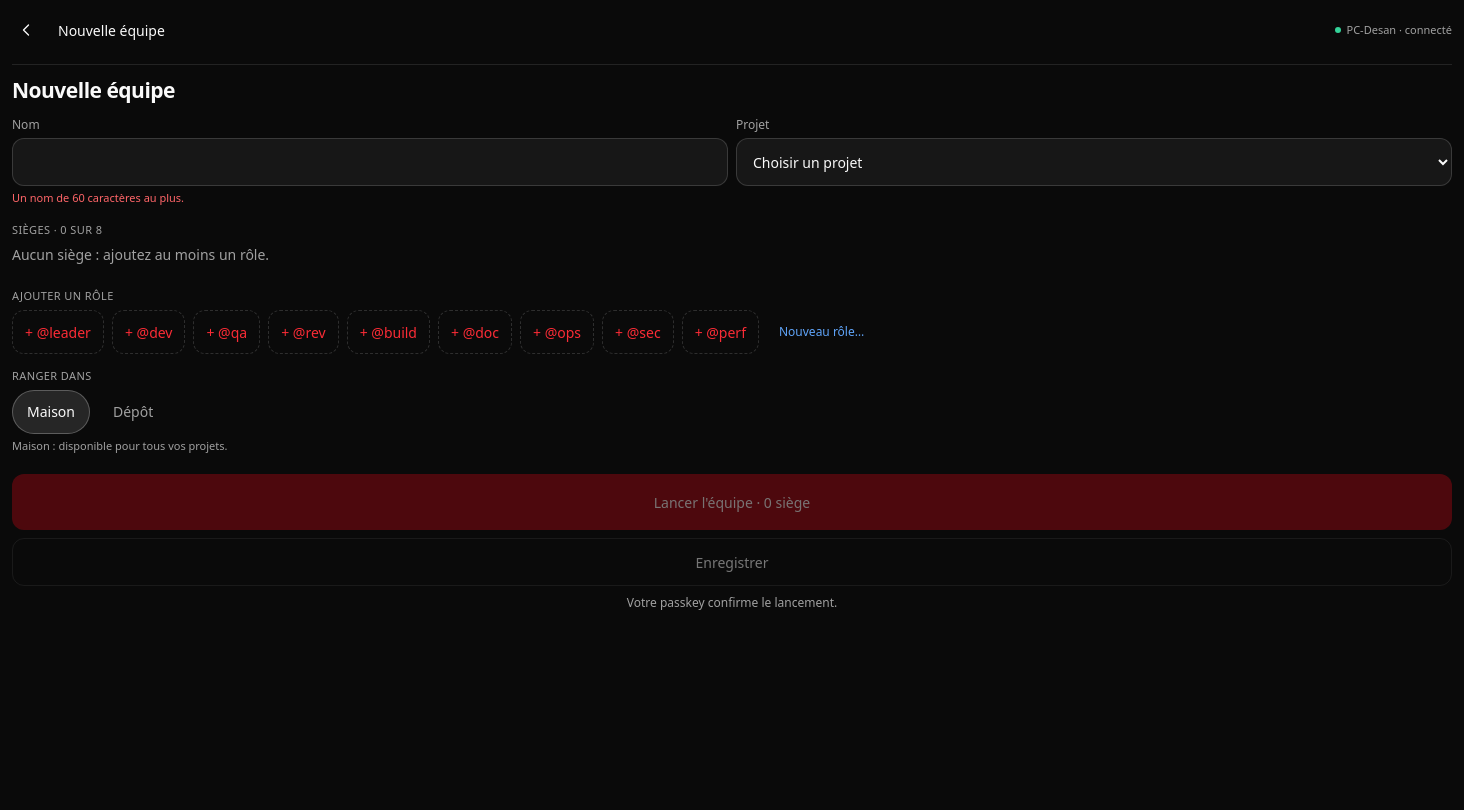
Test case: the team editor, a definition › a refused write says why and does not navigate; a cancelled passkey is quiet
The image size is (1464, 810).
Type "Ma revue" into the field labelled "Nom" at x=370, y=162, box x1=12 y1=138 x2=728 y2=186
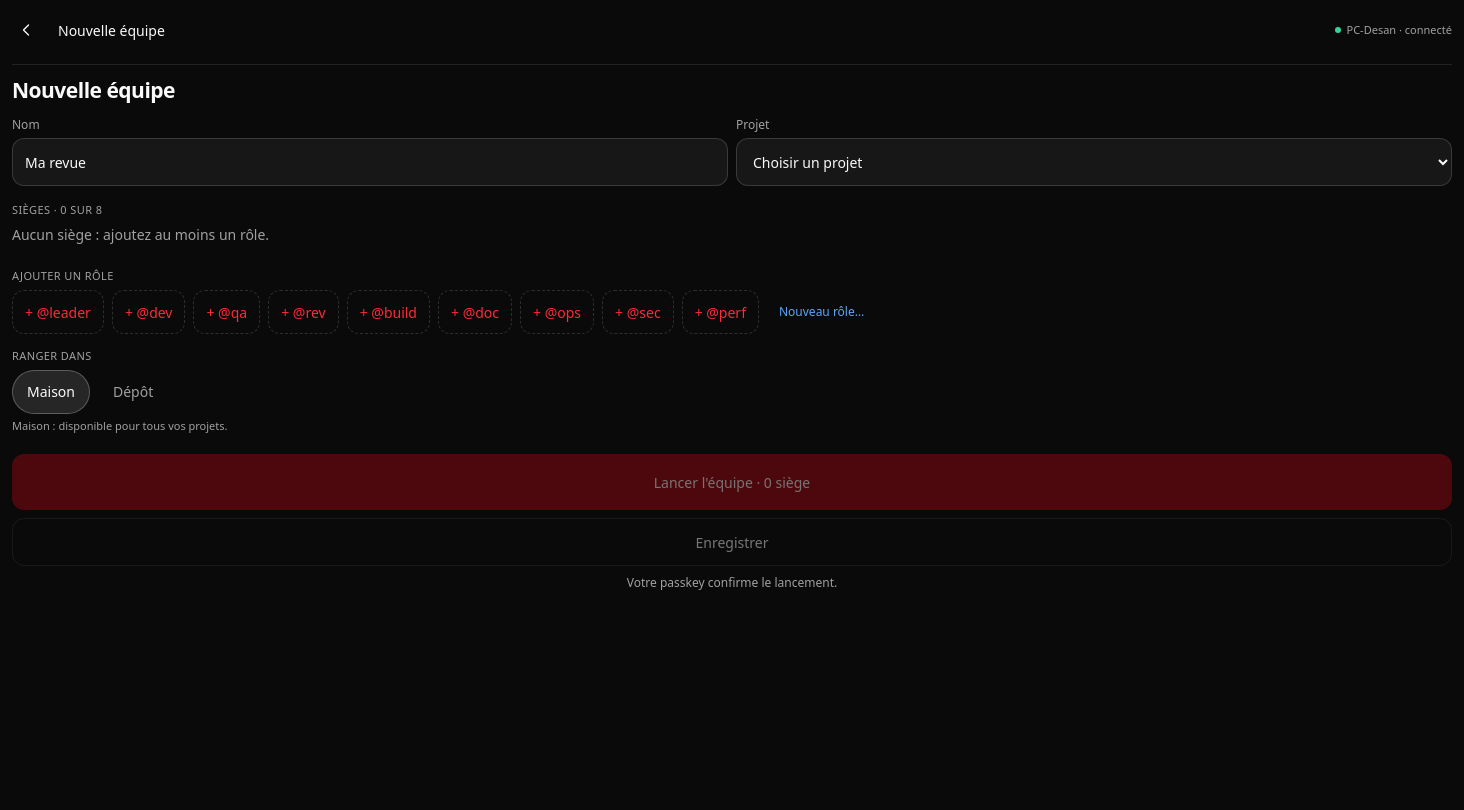
Click the button "+ @qa" at x=227, y=312, box x1=194 y1=290 x2=260 y2=334
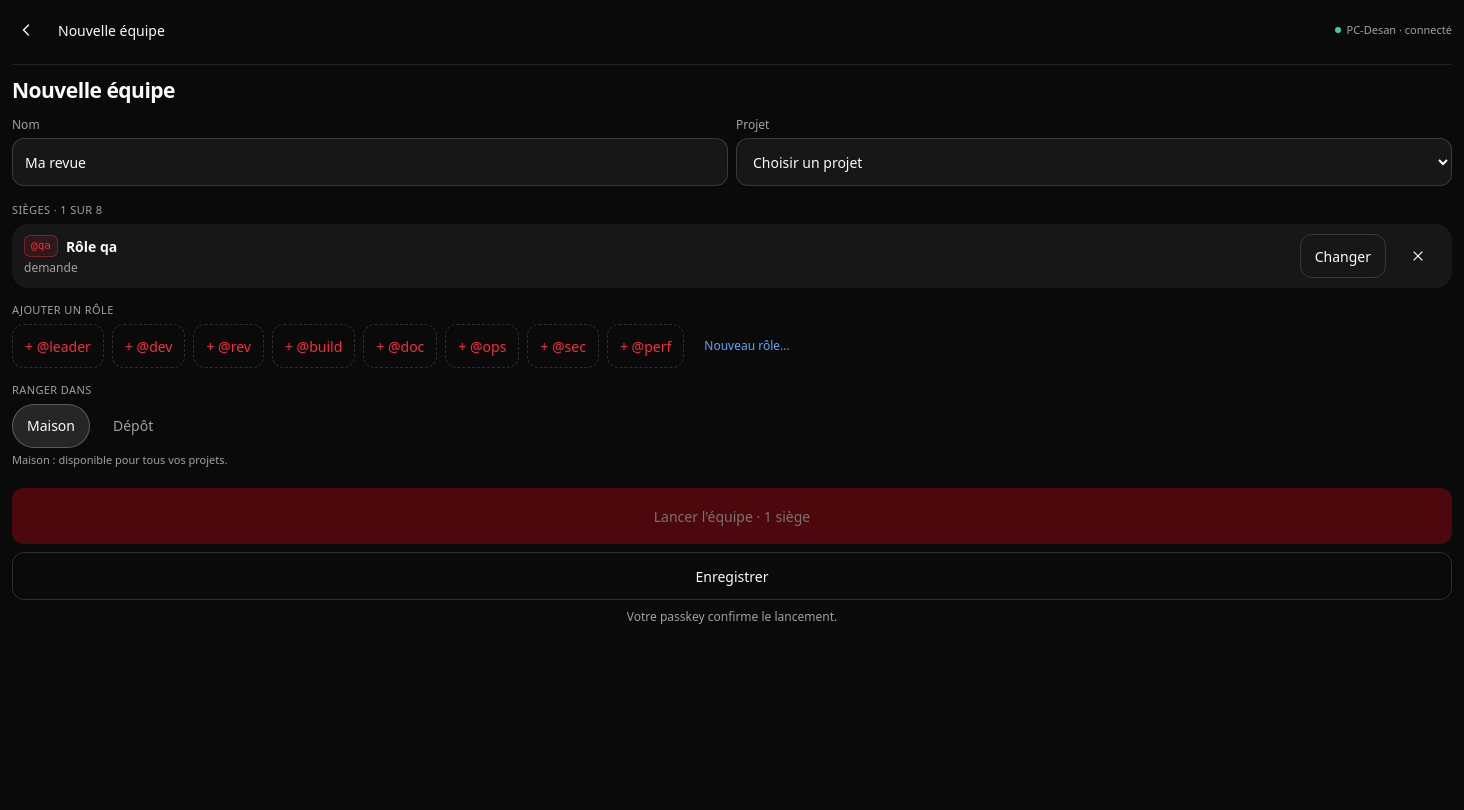
Click the button "Enregistrer" at x=732, y=576, box x1=12 y1=552 x2=1452 y2=600
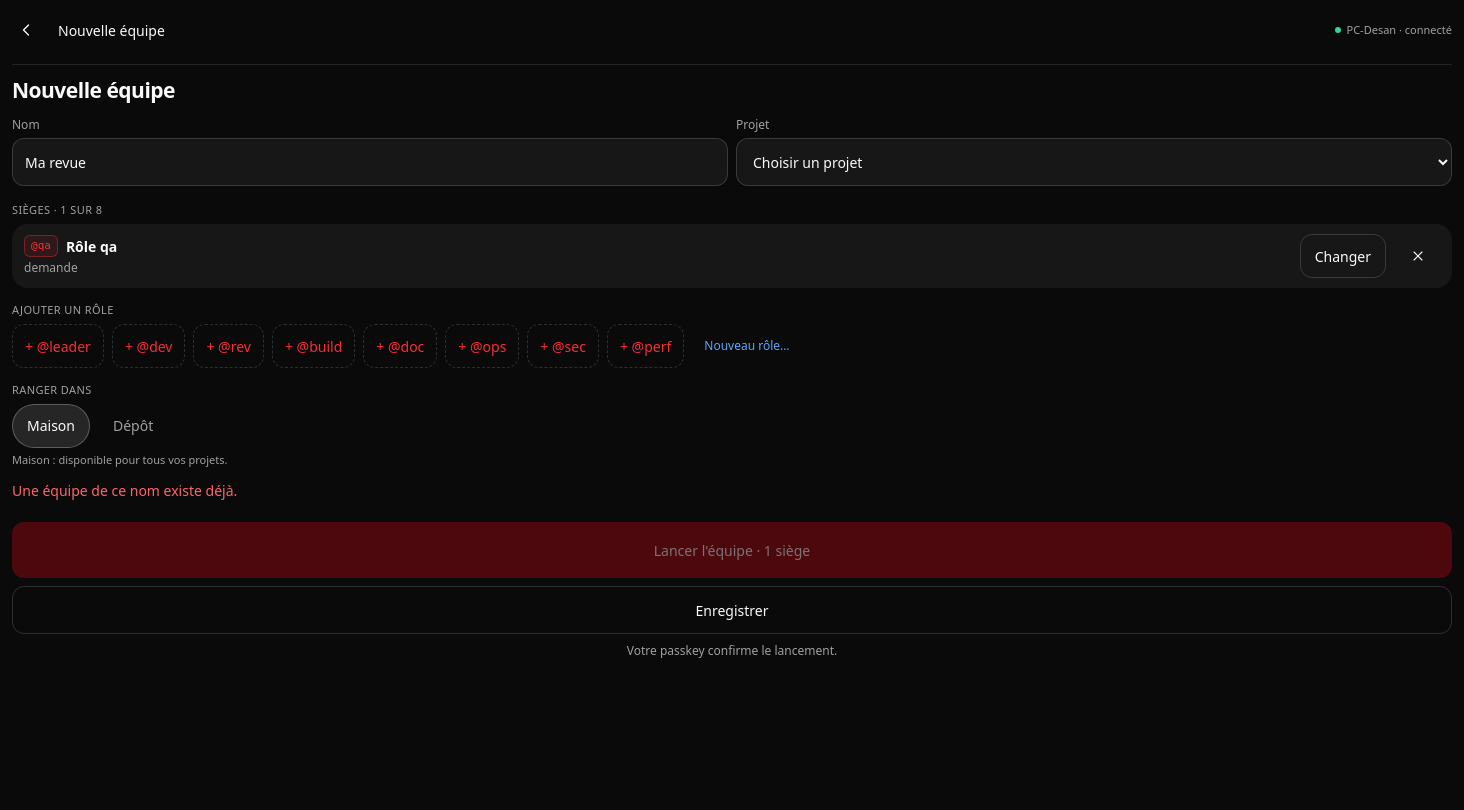
Now the message reads "Une équipe de ce nom existe déjà.", box x1=12 y1=481 x2=237 y2=500
Click the button "Enregistrer" at x=732, y=610, box x1=12 y1=586 x2=1452 y2=634
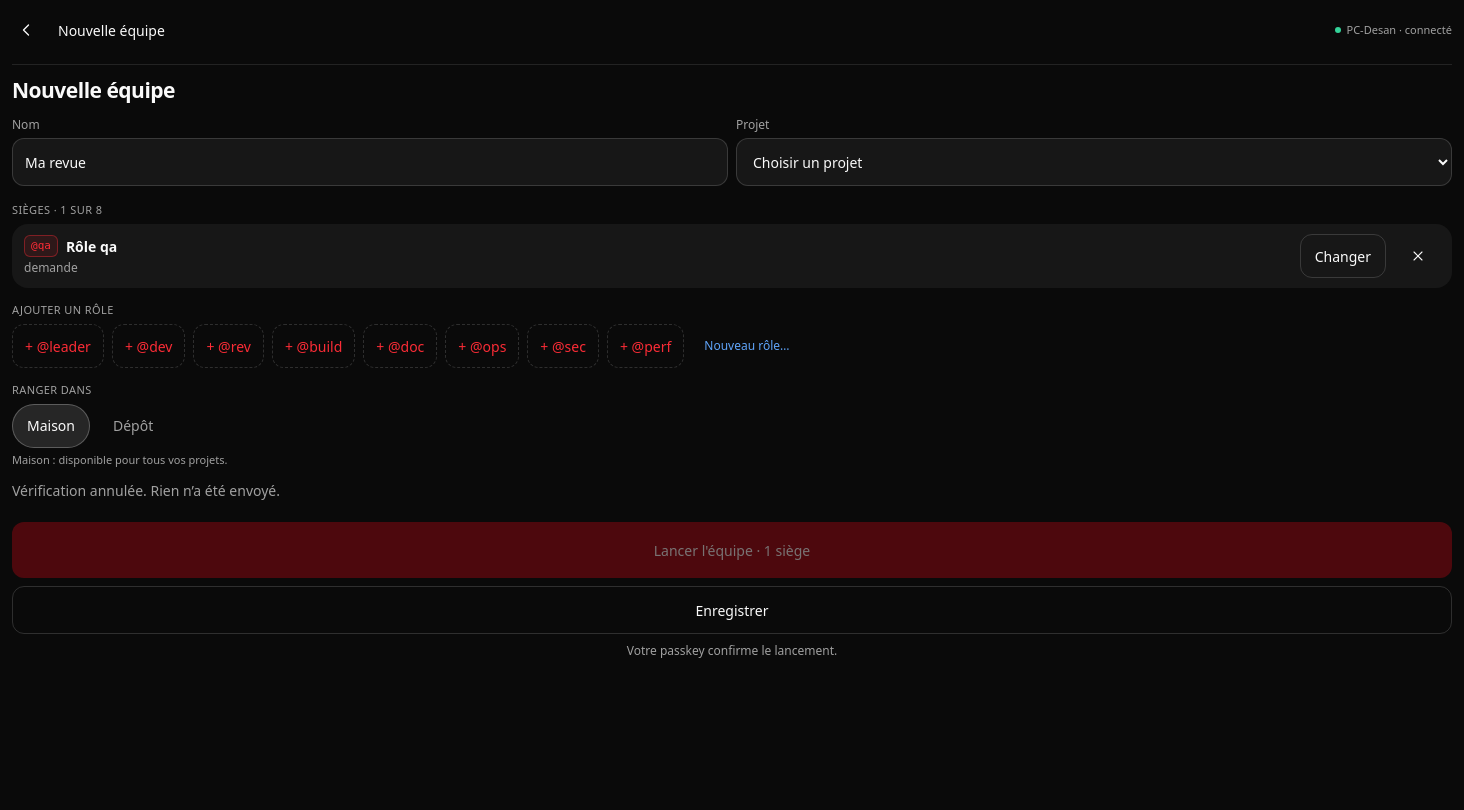
Now the message reads "Vérification annulée. Rien n’a été envoyé.", box x1=12 y1=481 x2=280 y2=500
